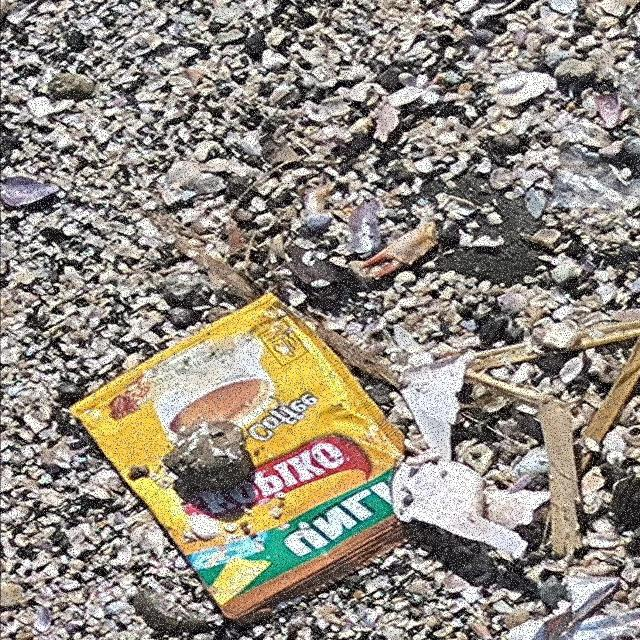plastic_waste: (68, 291, 429, 629)
